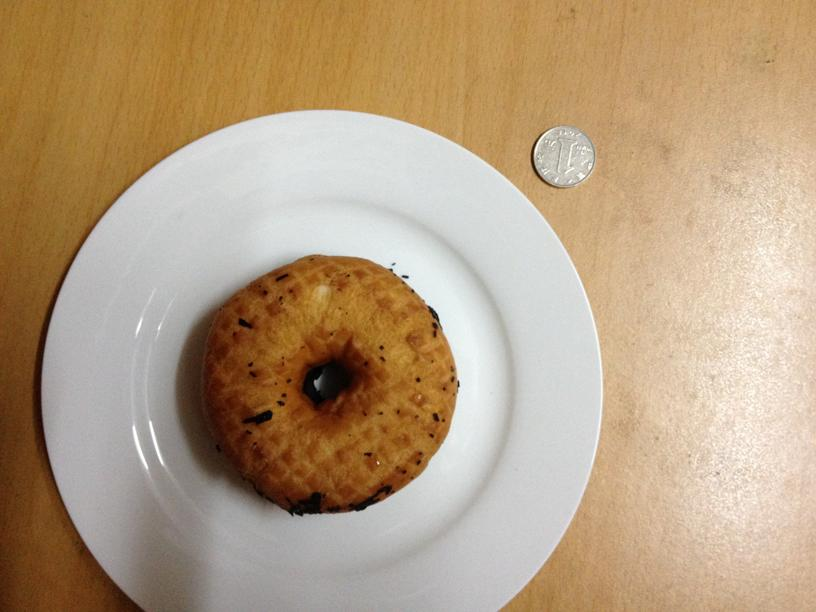coin: (532, 122, 595, 189)
doughnut: (200, 248, 456, 517)
